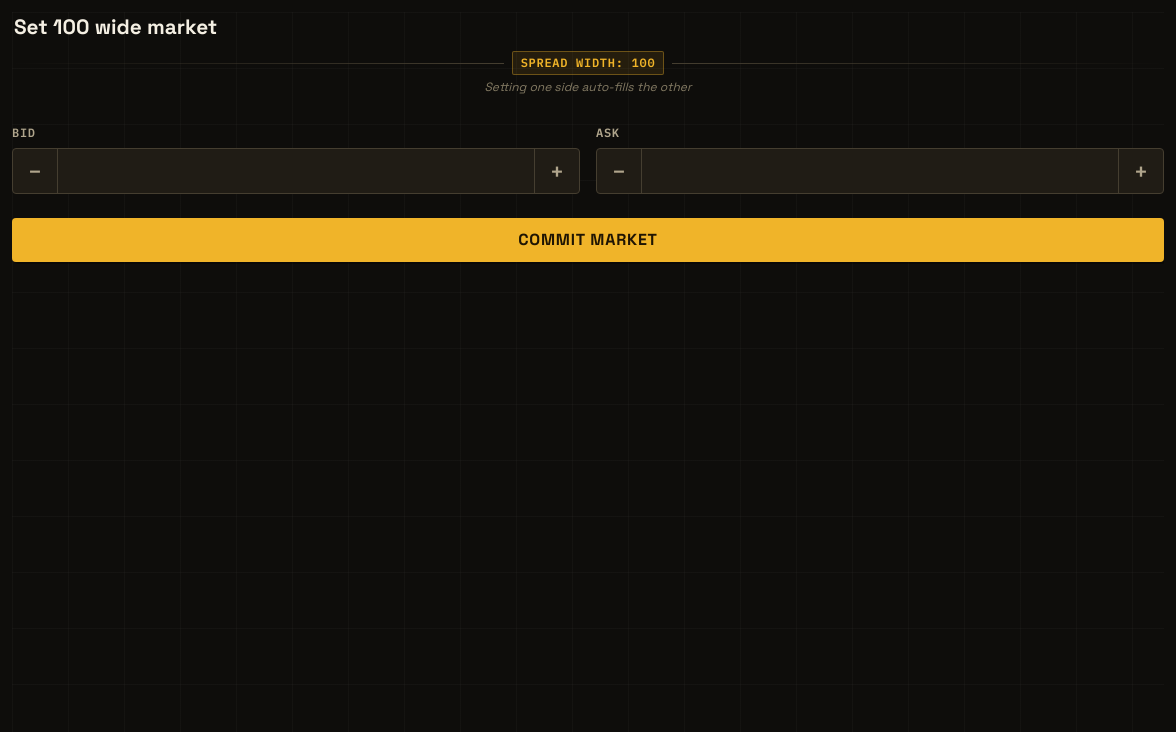
MarketRangeForm › T24b: typing Ask auto-fills Bid using spreadWidth
Type "3700" into the number field labelled "Ask".
click(880, 171); type("3700")  # box [641,149,1119,193]
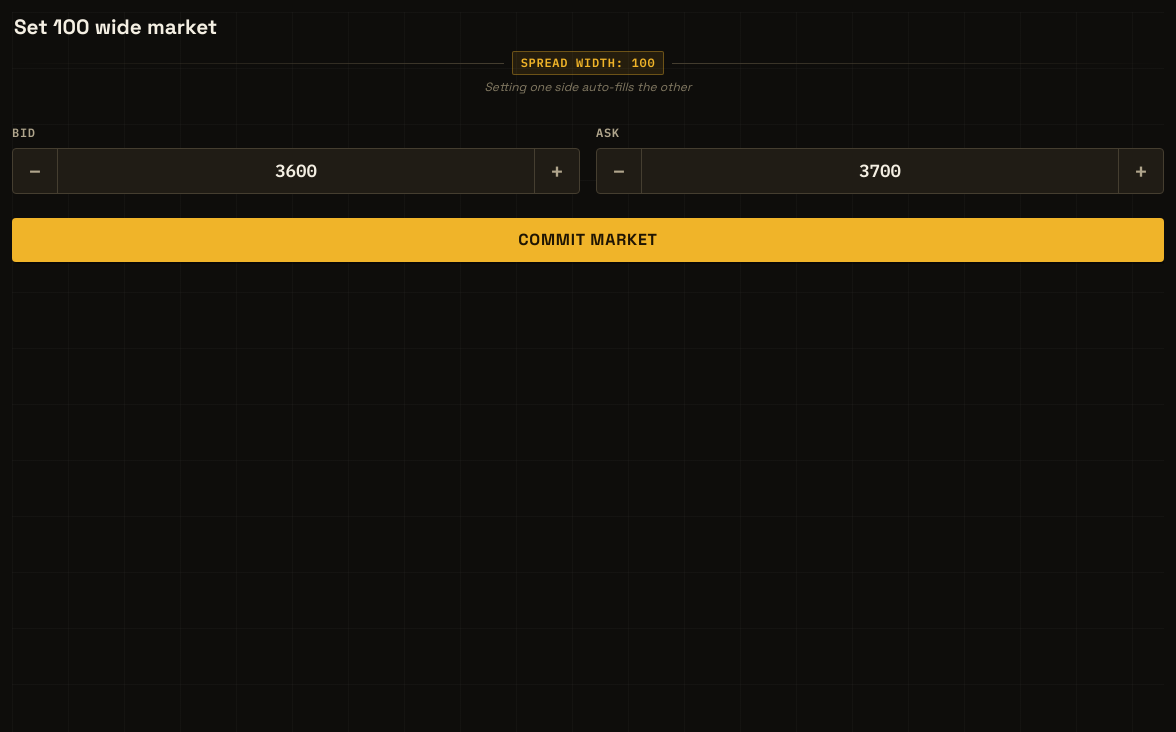
expect the number field labelled "Bid" holds "3600": met, box [57,149,535,193]
